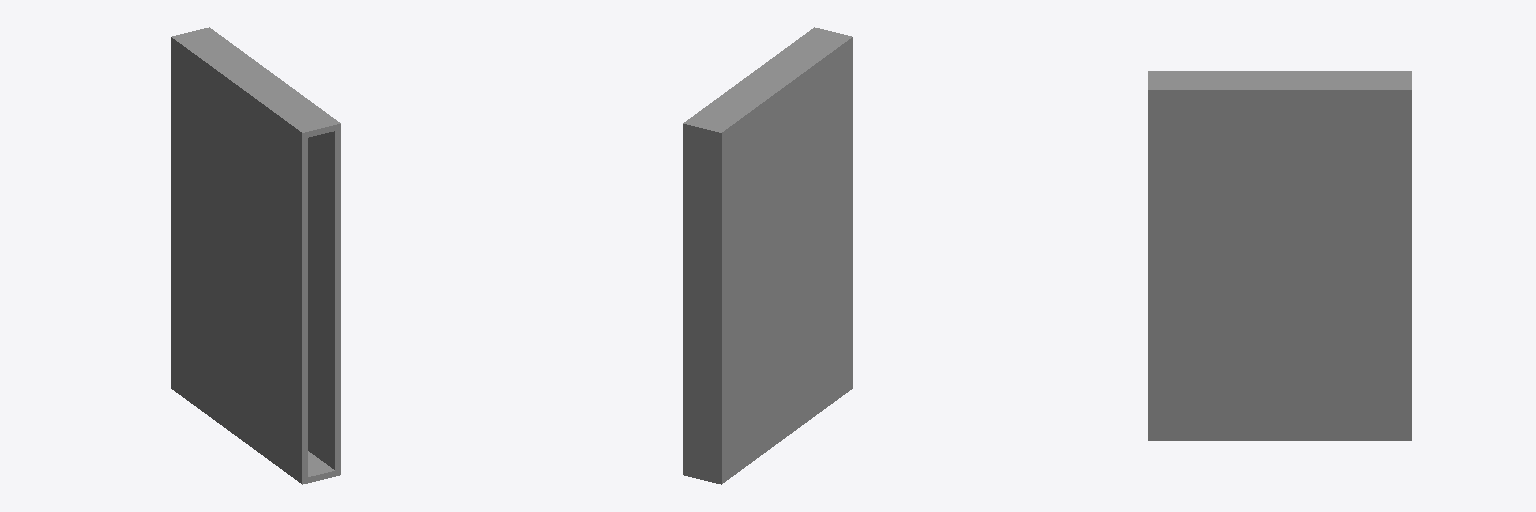
Rendered from tray-space-100.obj.
3 views of the same model, side by side, from view 1: azimuth 30°, elevation 25°; view 2: azimuth 150°, elevation 25°; view 3: azimuth 270°, elevation 25° (orthographic).
Parts seen in each view (by area): view 1: Cube.002_Cube.004, Cube.001_Cube.003, Cube.004_Cube.005, Cube.003_Cube.001; view 2: Cube.002_Cube.004, Cube.000, Cube.004_Cube.005, Cube.001_Cube.003; view 3: Cube.001_Cube.003, Cube.004_Cube.005, Cube.002_Cube.004.
Boxes of the visible parts, x1=… form: Cube.002_Cube.004: x1=171, y1=35, x2=307, y2=484; Cube.001_Cube.003: x1=204, y1=27, x2=340, y2=476; Cube.004_Cube.005: x1=181, y1=31, x2=334, y2=137; Cube.003_Cube.001: x1=308, y1=451, x2=334, y2=482; Cube.002_Cube.004: x1=716, y1=35, x2=852, y2=484; Cube.000: x1=689, y1=123, x2=718, y2=482; Cube.004_Cube.005: x1=692, y1=29, x2=846, y2=128; Cube.001_Cube.003: x1=683, y1=27, x2=819, y2=476; Cube.001_Cube.003: x1=1148, y1=87, x2=1411, y2=440; Cube.004_Cube.005: x1=1148, y1=74, x2=1404, y2=86; Cube.002_Cube.004: x1=1148, y1=71, x2=1411, y2=73.
Bounding box in the file's own units: 20 × 174 × 118.